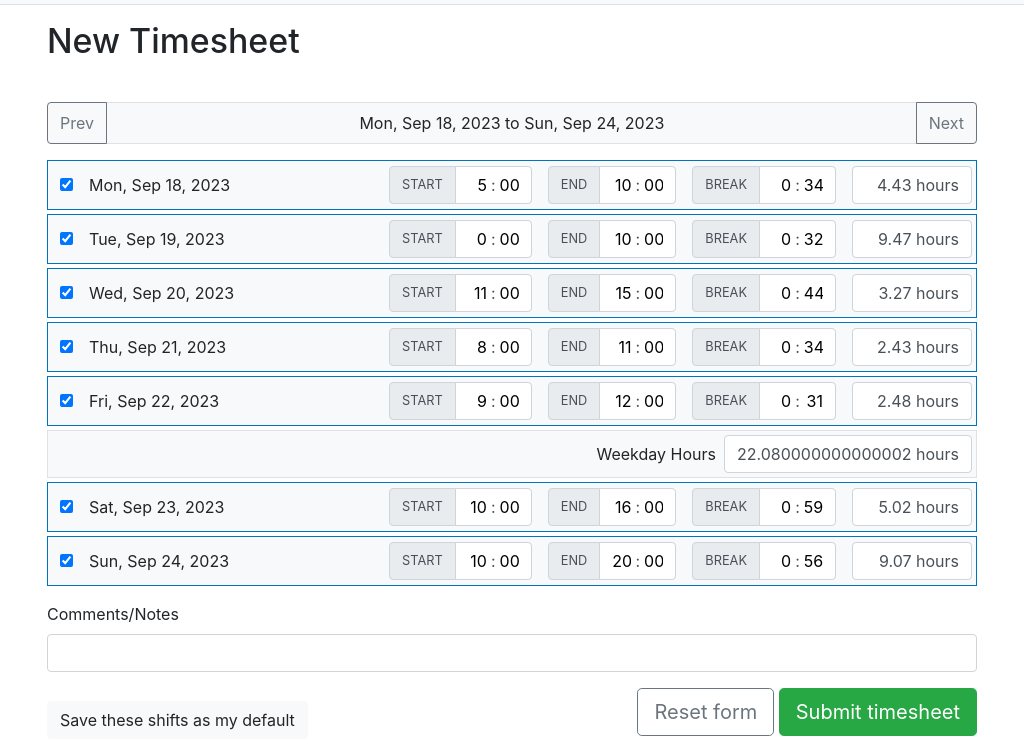
Scenario: displays error when timesheet creation fails
(page scrolled)
Expected: the heading reads "New Timesheet", [47,20,300,61]
Click the button "Submit timesheet": (878,712) [779,688,977,736]
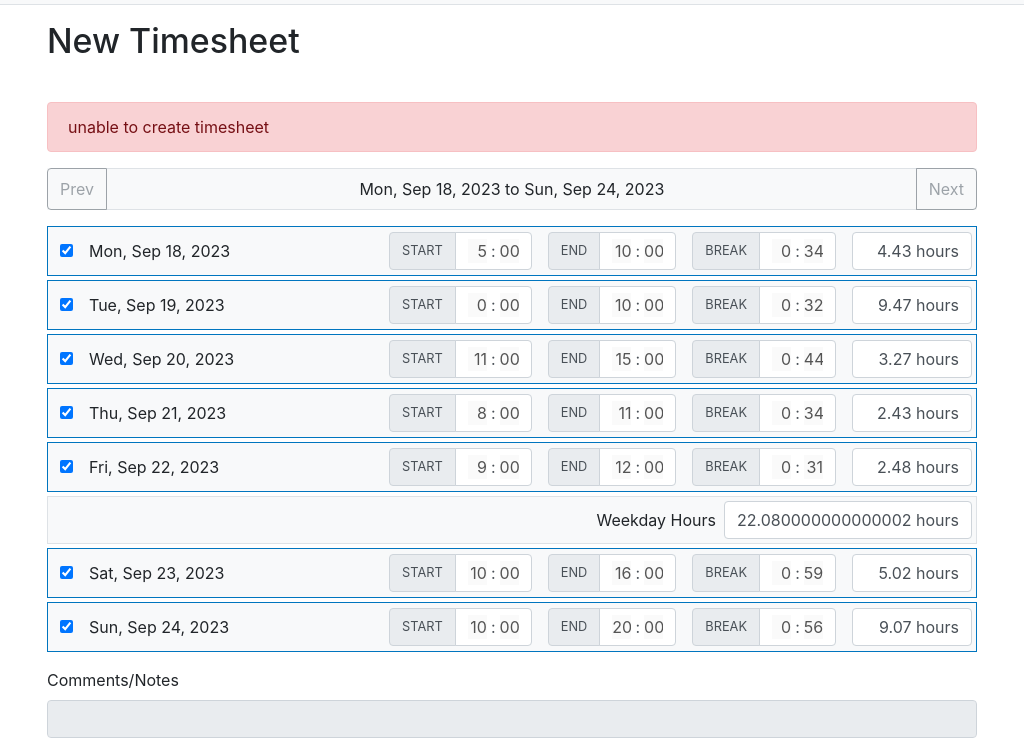
Result: the text "unable to create timesheet" is shown at [47,102,977,152]
